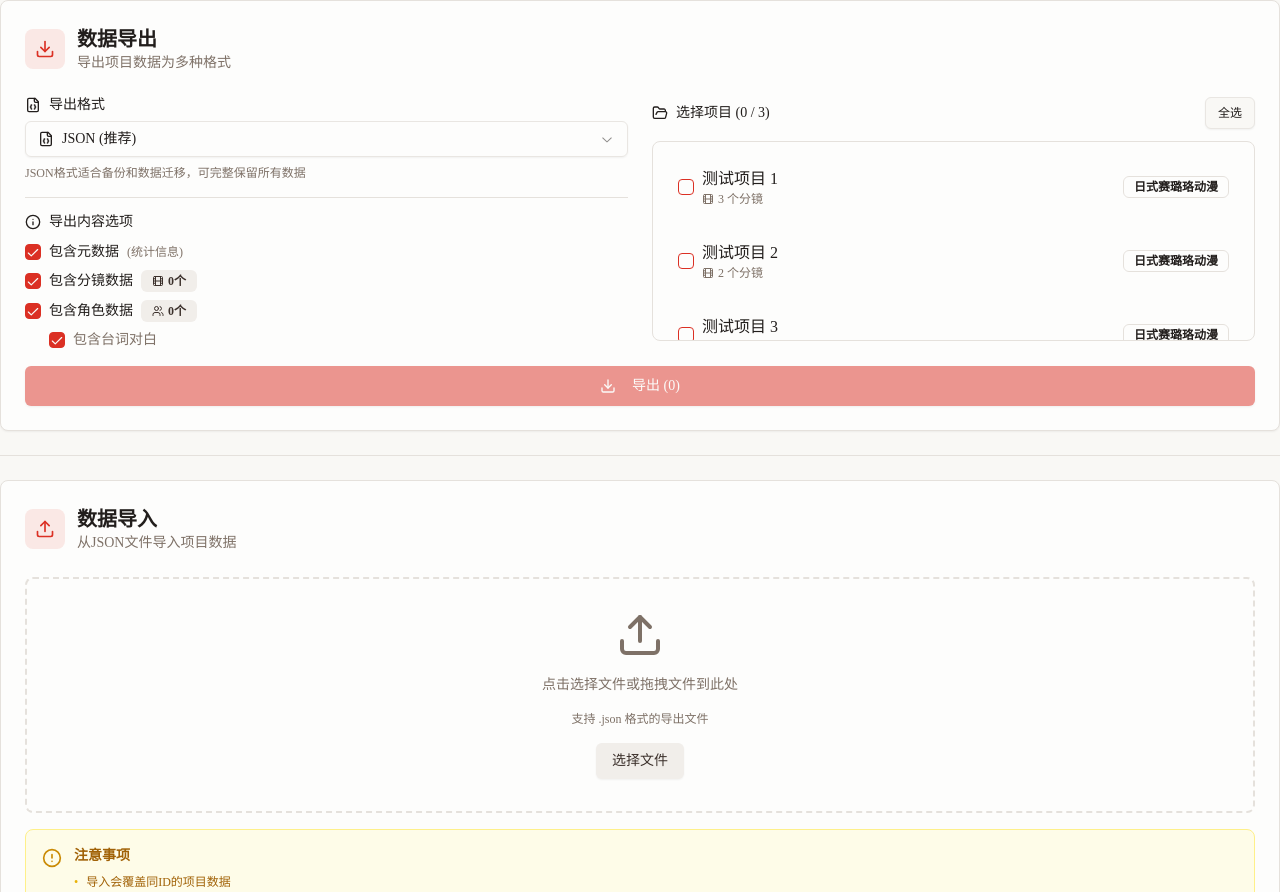
DataExporter › 项目选择 › 应该能够选择单个项目
Click the text "测试项目 1" at (740, 178), box [678,170,1229,206]
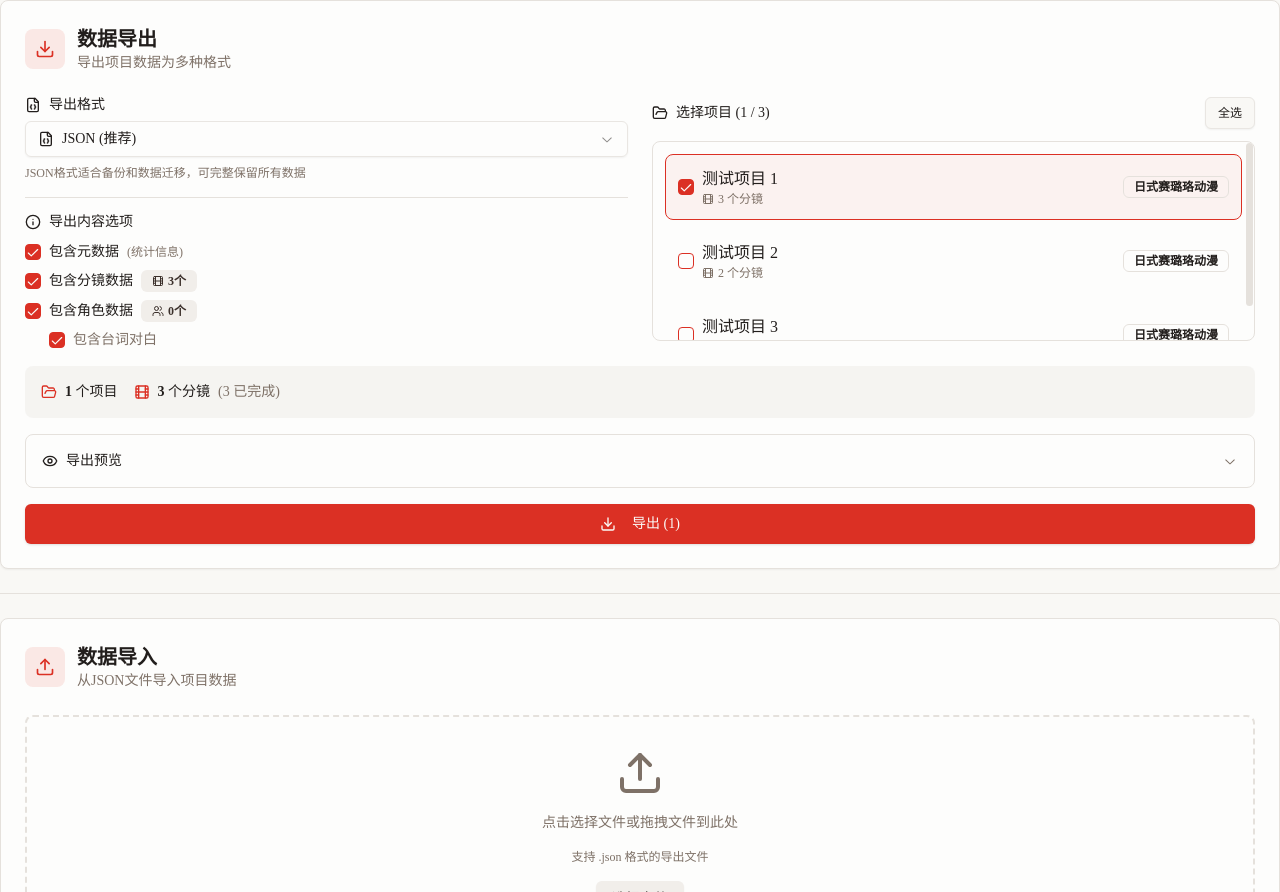
expect the text "选择项目 (1 / 3)" is shown: met, box [652,105,770,121]
